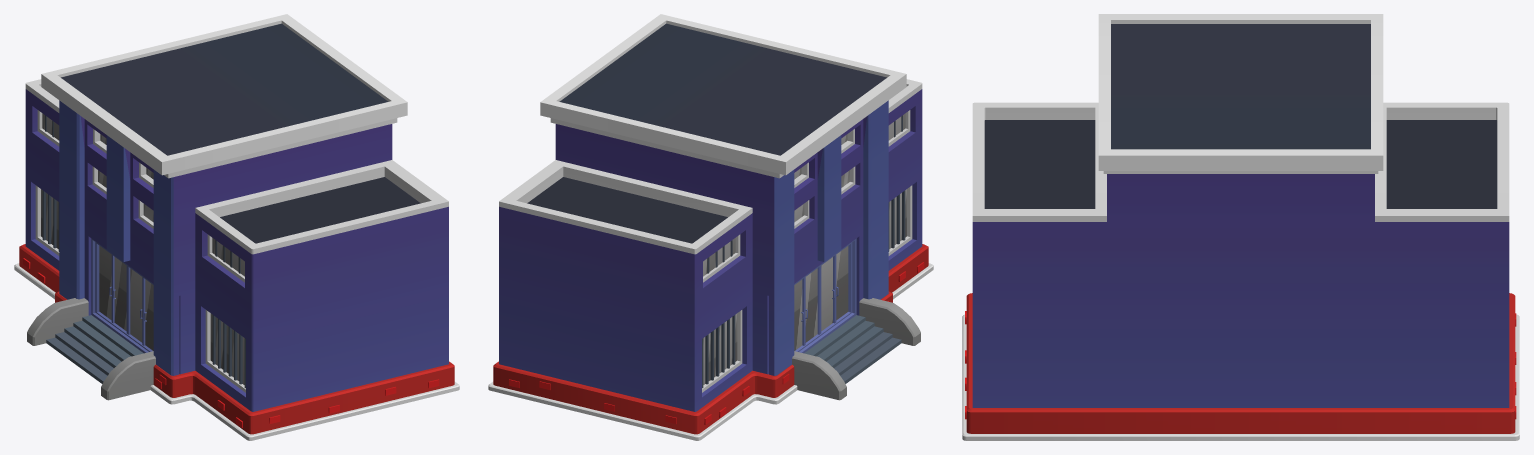
Rendered from Building_14_B.fbx.
3 views of the same model, side by side, from view 1: azimuth 30°, elevation 25°; view 2: azimuth 150°, elevation 25°; view 3: azimuth 270°, elevation 25° (orthographic). The views are drawn at different scales.
Visible parts, largest first — view 1: Building_14_B; view 2: Building_14_B; view 3: Building_14_B.
Boxes of the visible parts, x1=… form: Building_14_B: x1=14, y1=14, x2=459, y2=440; Building_14_B: x1=488, y1=14, x2=933, y2=440; Building_14_B: x1=962, y1=14, x2=1519, y2=440.
Size of the model in its own units: 908 by 755 by 1325.
